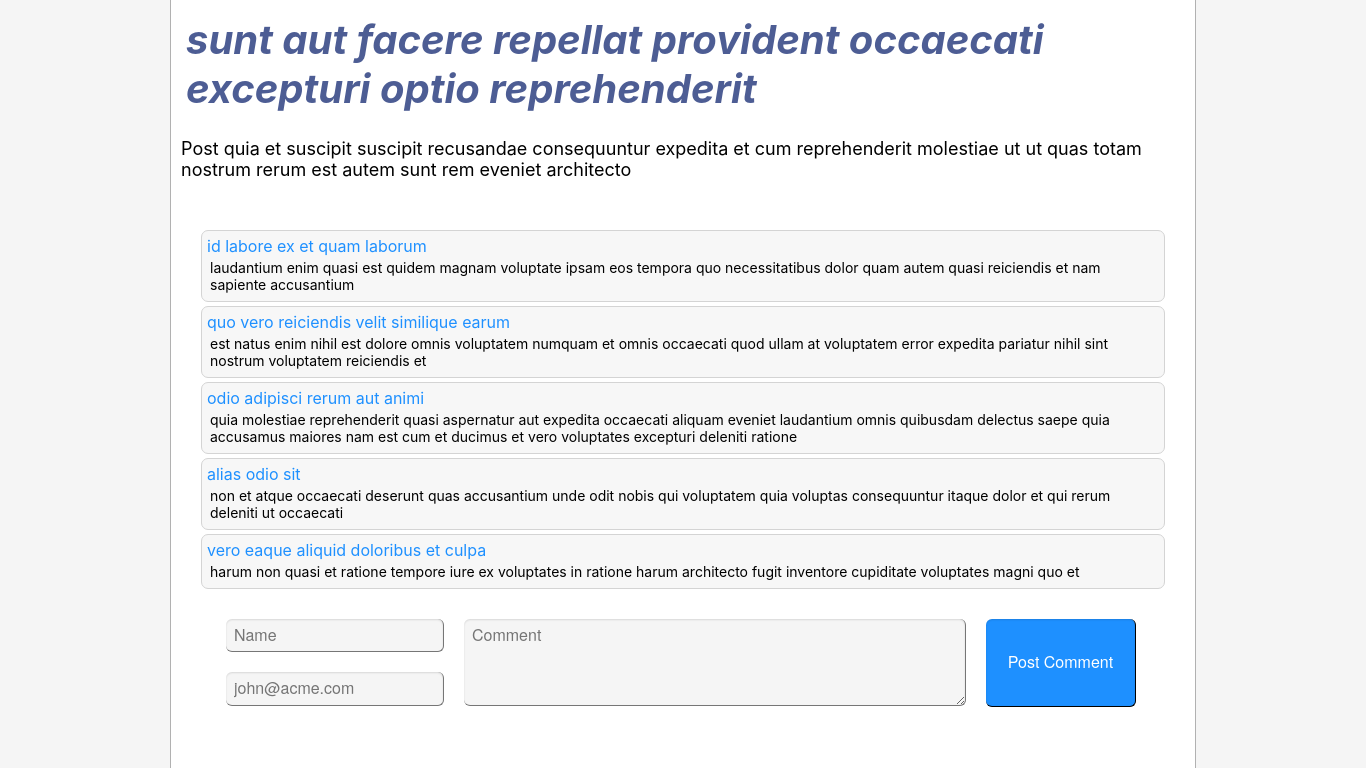
Test case: Post Screen › post is loading › new comment is added
Type "Dee" into the field with test id "name" at [335, 636], box [226, 619, 444, 652]
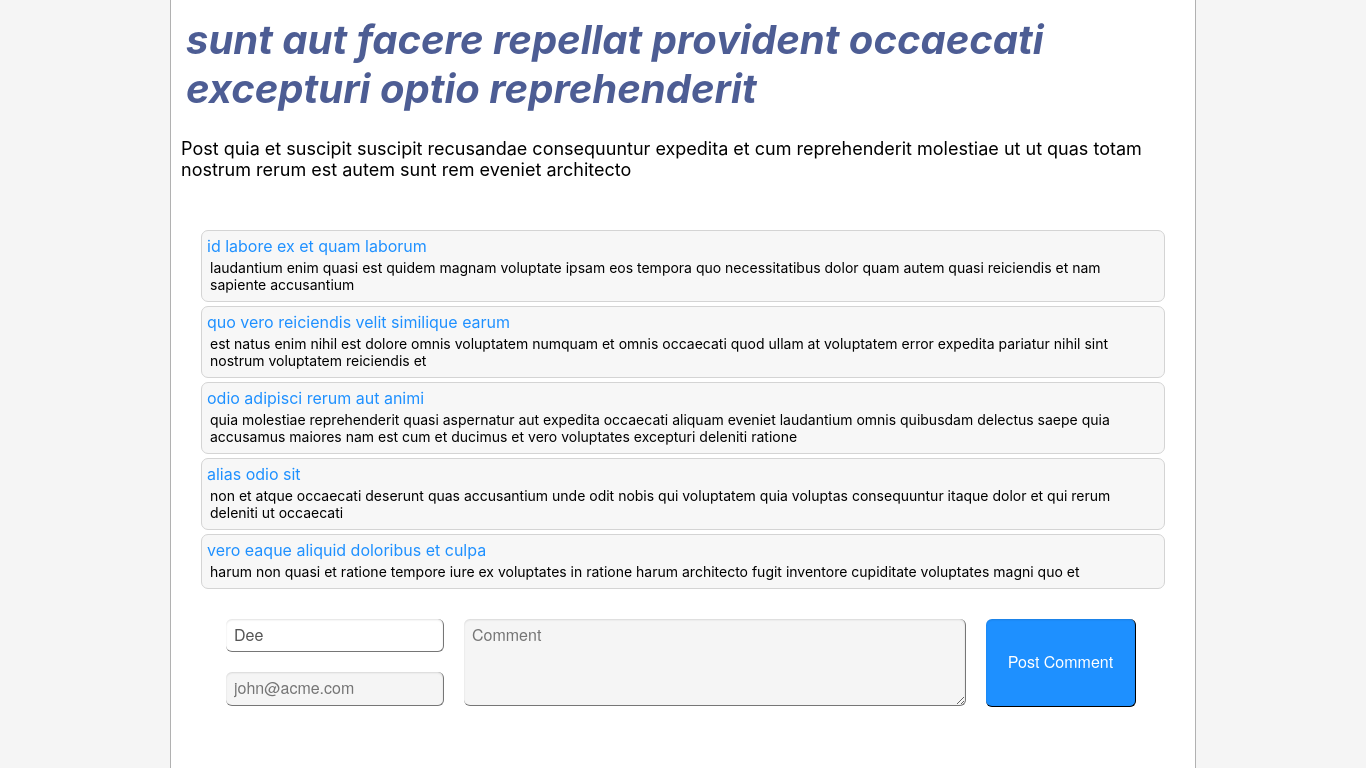
Type "some text" into the text box with test id "body" at [715, 662], box [464, 619, 966, 706]
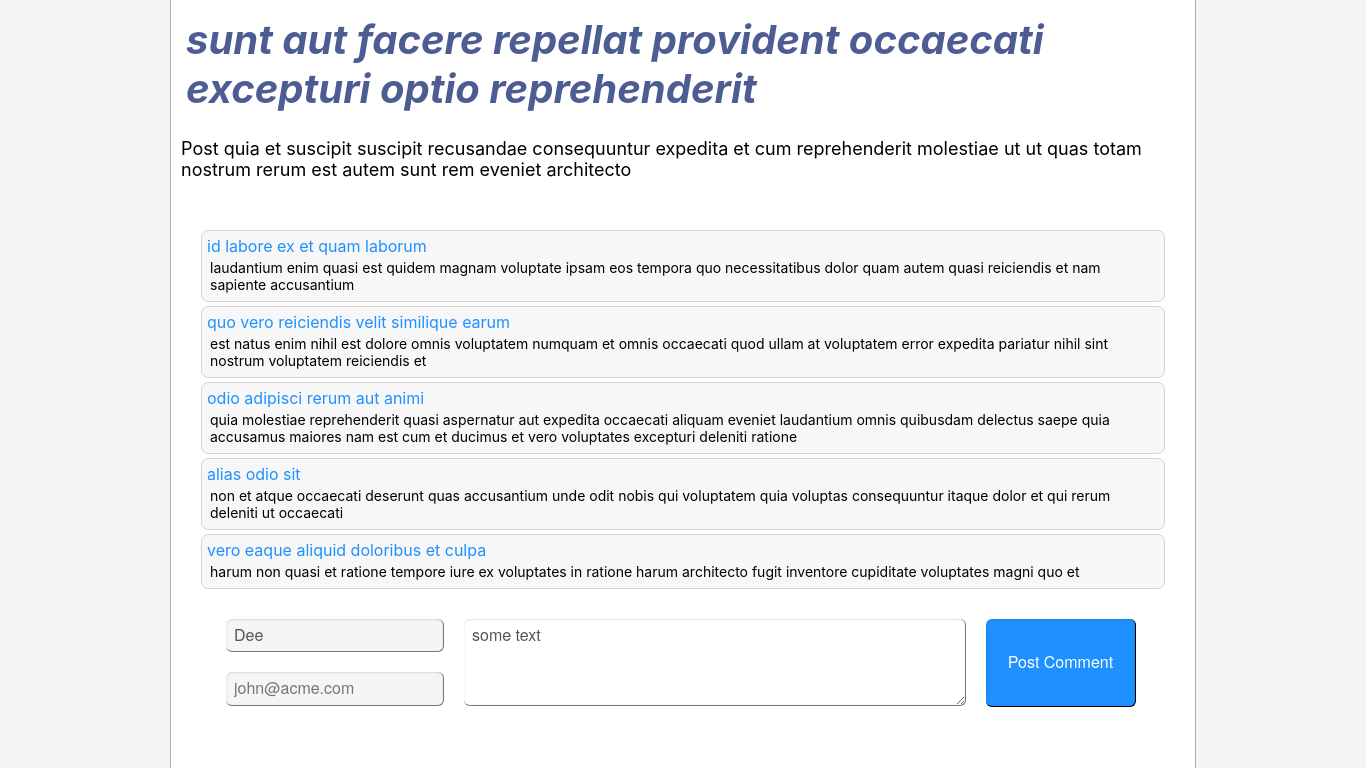
Type "john.dee@someemail.com" into the field with test id "email" at [335, 689], box [226, 672, 444, 706]
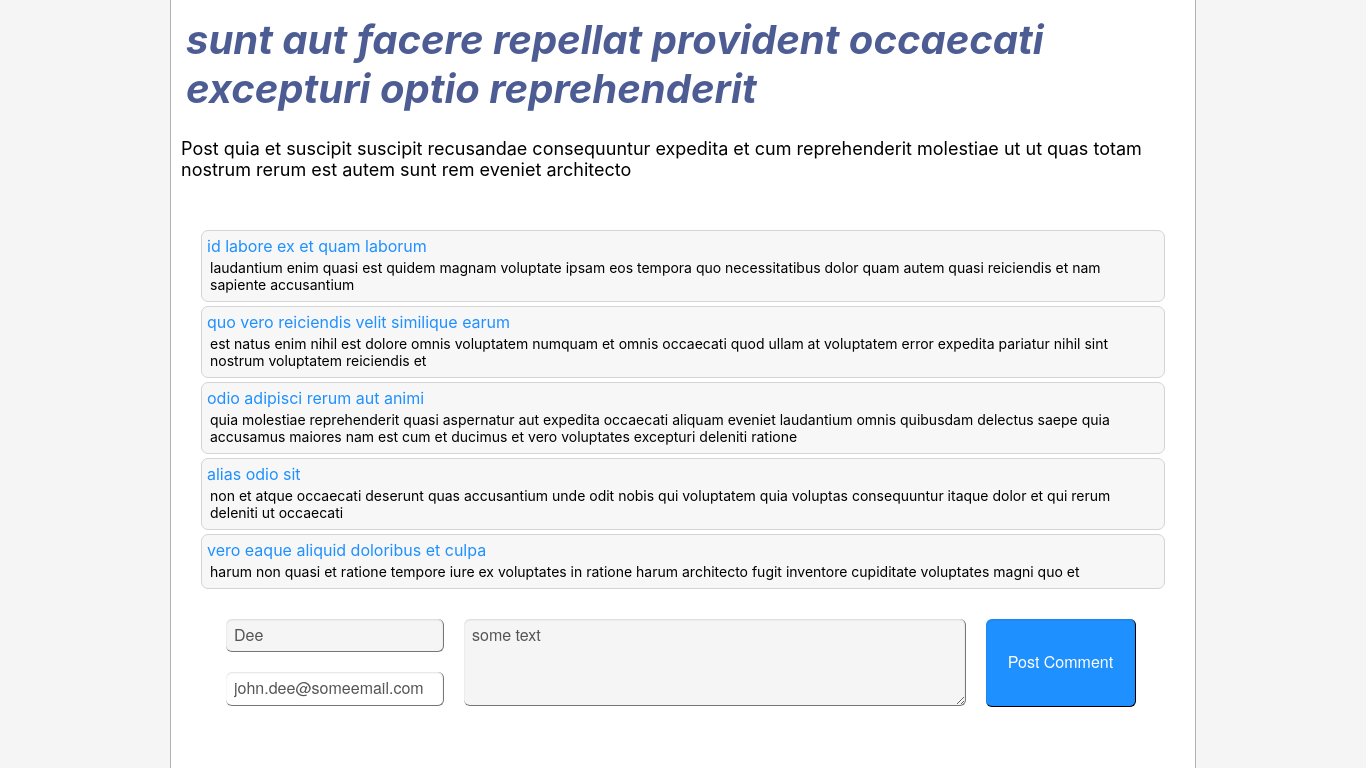
Click the button with test id "submit" at [1061, 663], box [986, 619, 1136, 707]
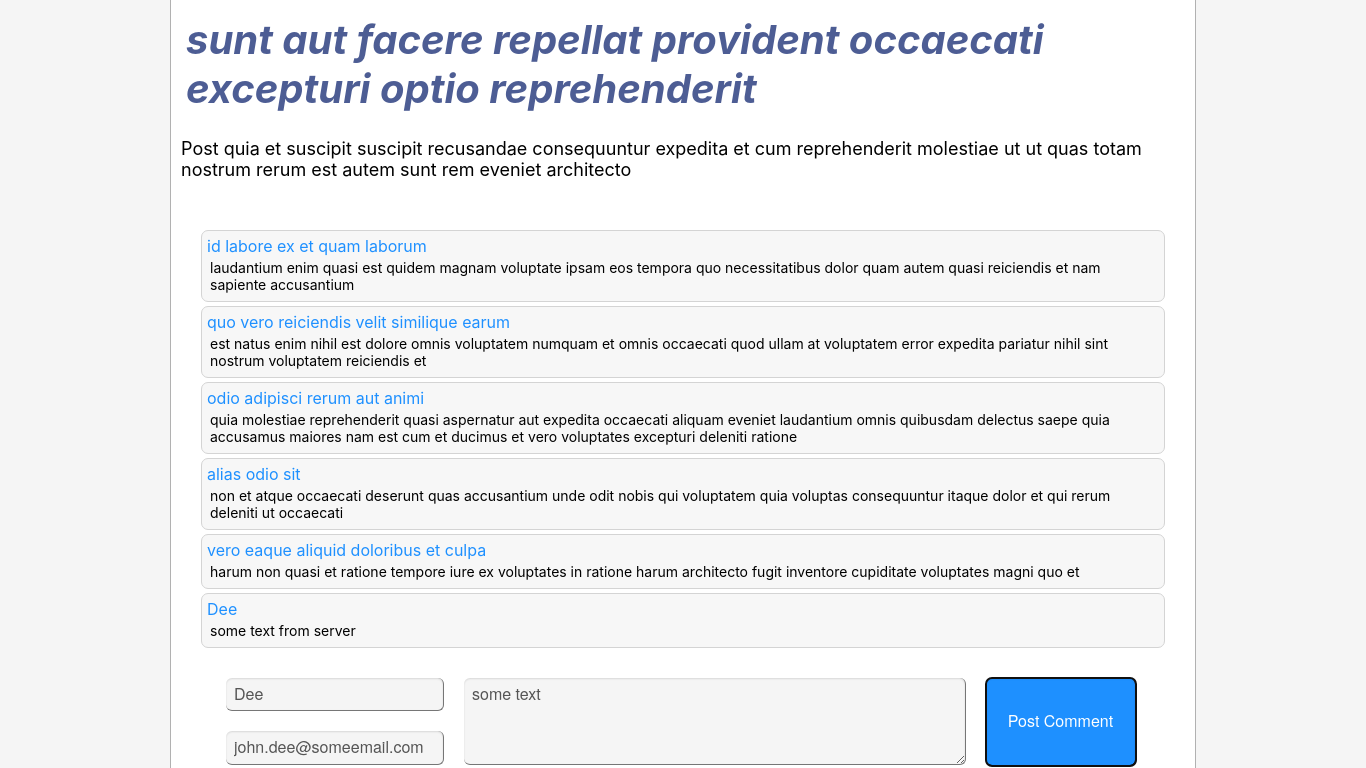
Check: the text "some text from server" is shown, box [210, 622, 356, 639]
